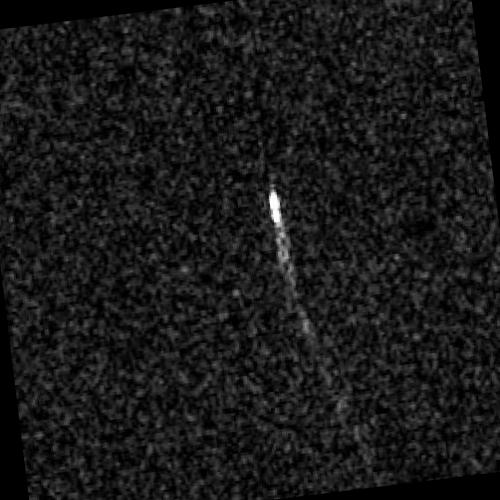ship: (268, 187, 282, 230)
